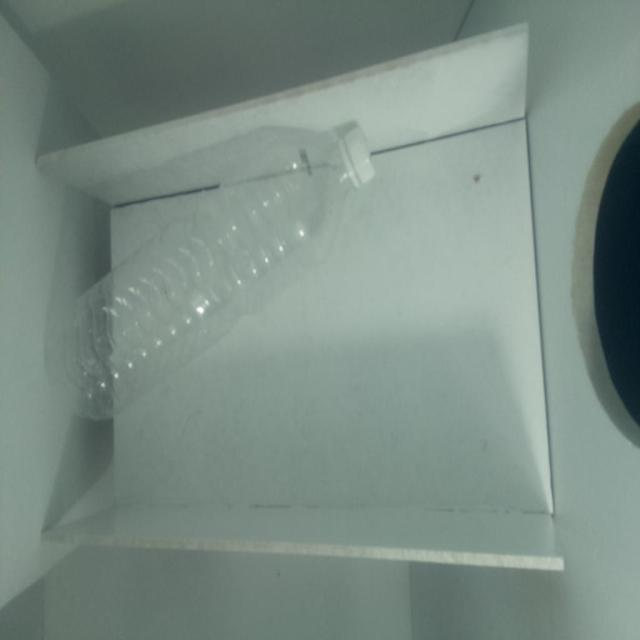bottle: (60, 112, 381, 434)
